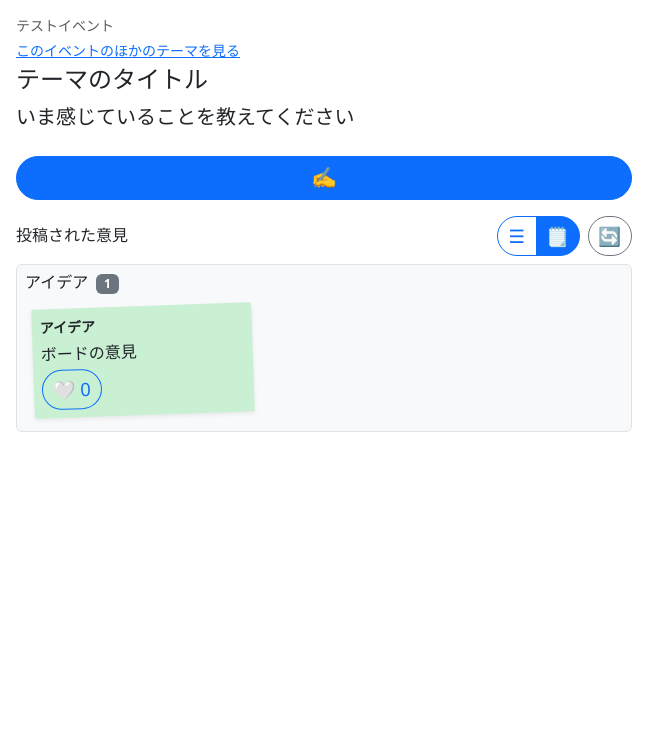
Test: 参加者の画面 › 最初は、ボードを見せる。イベント名・タイトル・問いを出し、投稿の案内は、投稿画面に出す
The image size is (649, 731).
Expected: the text "いま感じていることを教えてください" is shown, x1=16 y1=103 x2=354 y2=130
Expected: the text "テストイベント" is shown, x1=16 y1=16 x2=114 y2=35
Click the link named "意見を投稿する". click: (324, 178)
box: x1=16 y1=156 x2=632 y2=200
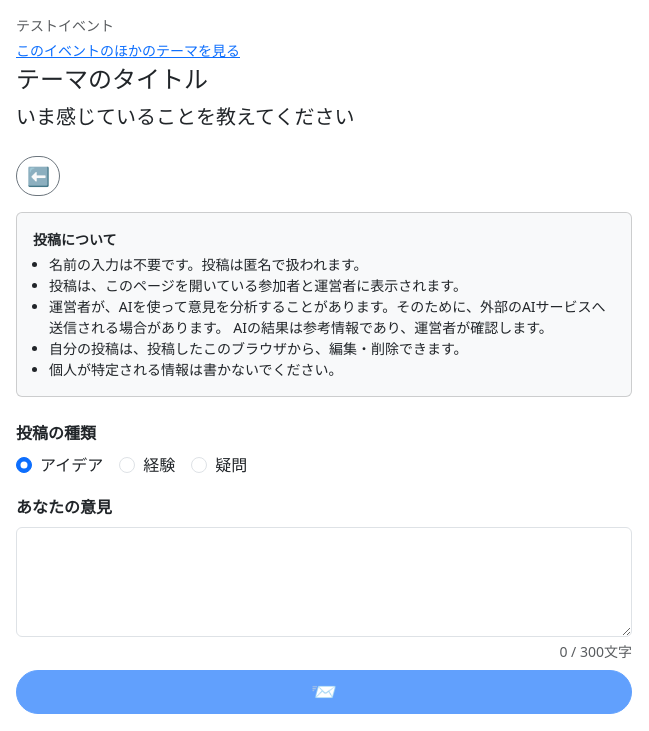
Result: the list item "名前の入力は不要です。投稿は匿名で扱われます。" is shown at x1=49 y1=255 x2=368 y2=274
Result: the list item "AIを使って意見を分析" is shown at x1=49 y1=297 x2=606 y2=337
Result: the text box labelled "あなたの意見" is shown at x1=16 y1=527 x2=632 y2=637
